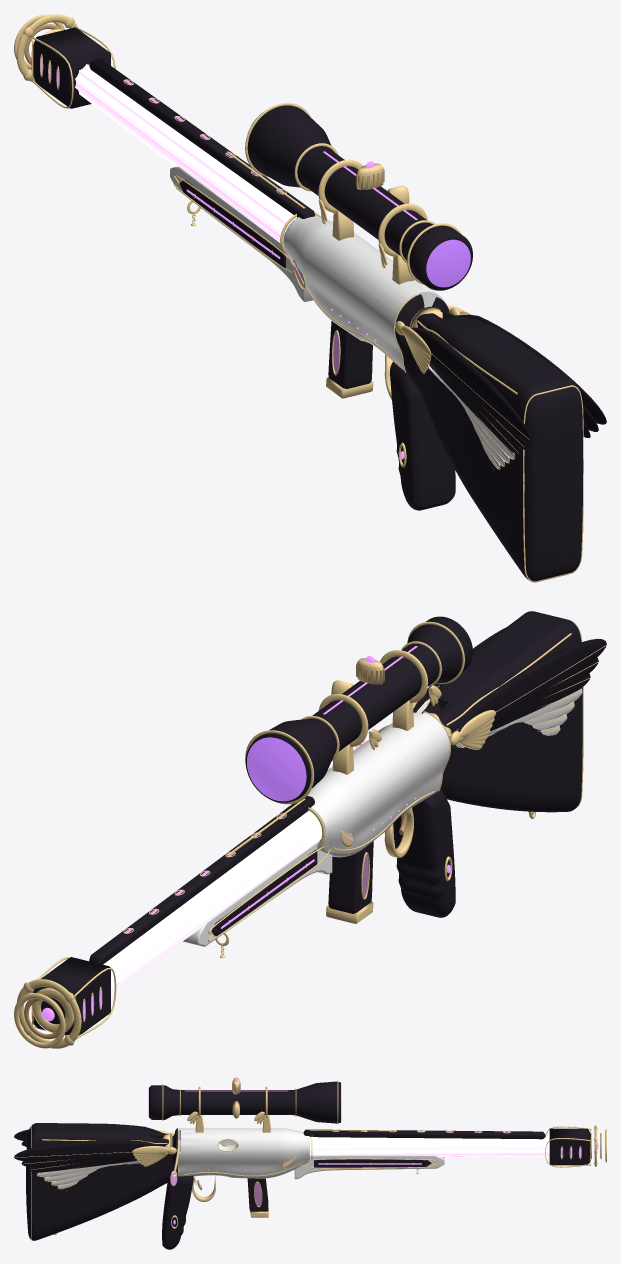
File: sniper-Be_LPbQt.glb
The picture shows the model from 3 angles, top to bottom: view 1: azimuth 30°, elevation 25°; view 2: azimuth 150°, elevation 25°; view 3: azimuth 270°, elevation 25°; orthographic projection. The views are drawn at different scales.
Parts seen in each view (by area): view 1: body, wL_f0_mesh, mag_mesh, muzzle_ringA, wR_f0_mesh, wL_cov; view 2: body, wL_f0_mesh, mag_mesh, muzzle_ringA, wL_cov, muzzle_ringC, wL_f1_mesh, wL_f2_mesh, wL_f3_mesh; view 3: body, wR_f0_mesh, mag_mesh, wR_cov, wR_f1_mesh, wR_f2_mesh, wR_f3_mesh, wR_f4_mesh.
Boxes of the visible parts, <box> form: body: <box>31,26,583,582</box>; wL_f0_mesh: <box>410,327,531,442</box>; mag_mesh: <box>326,321,373,398</box>; muzzle_ringA: <box>16,14,78,81</box>; wR_f0_mesh: <box>456,314,606,424</box>; wL_cov: <box>395,321,431,373</box>; body: <box>31,611,583,1039</box>; wL_f0_mesh: <box>458,638,606,731</box>; mag_mesh: <box>326,841,373,923</box>; muzzle_ringA: <box>17,979,81,1048</box>; wL_cov: <box>450,710,496,749</box>; muzzle_ringC: <box>14,993,65,1048</box>; wL_f1_mesh: <box>458,658,598,730</box>; wL_f2_mesh: <box>457,673,590,731</box>; wL_f3_mesh: <box>457,688,582,734</box>; body: <box>26,1077,591,1249</box>; wR_f0_mesh: <box>14,1140,160,1161</box>; mag_mesh: <box>247,1178,268,1217</box>; wR_cov: <box>132,1146,176,1166</box>; wR_f1_mesh: <box>21,1158,136,1167</box>; wR_f2_mesh: <box>29,1160,137,1172</box>; wR_f3_mesh: <box>37,1161,138,1177</box>; wR_f4_mesh: <box>44,1161,138,1181</box>.
Bounding box in the file's own units: 0.1631 × 0.431 × 1.37.
